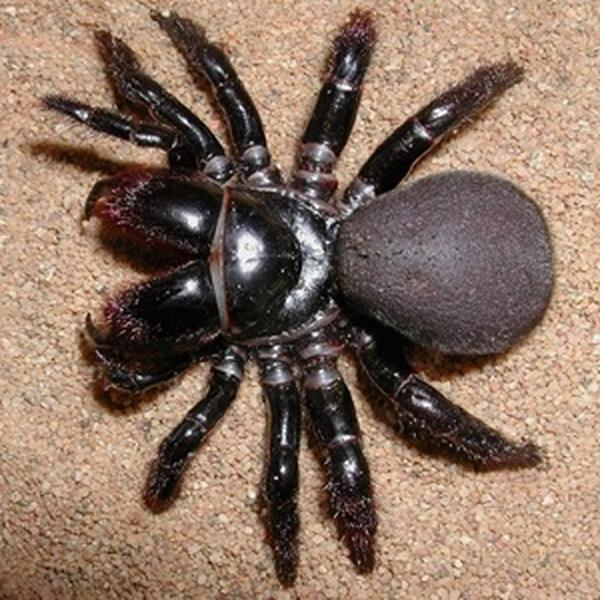Red Headed Mouse Spider: (57, 17, 558, 565)
